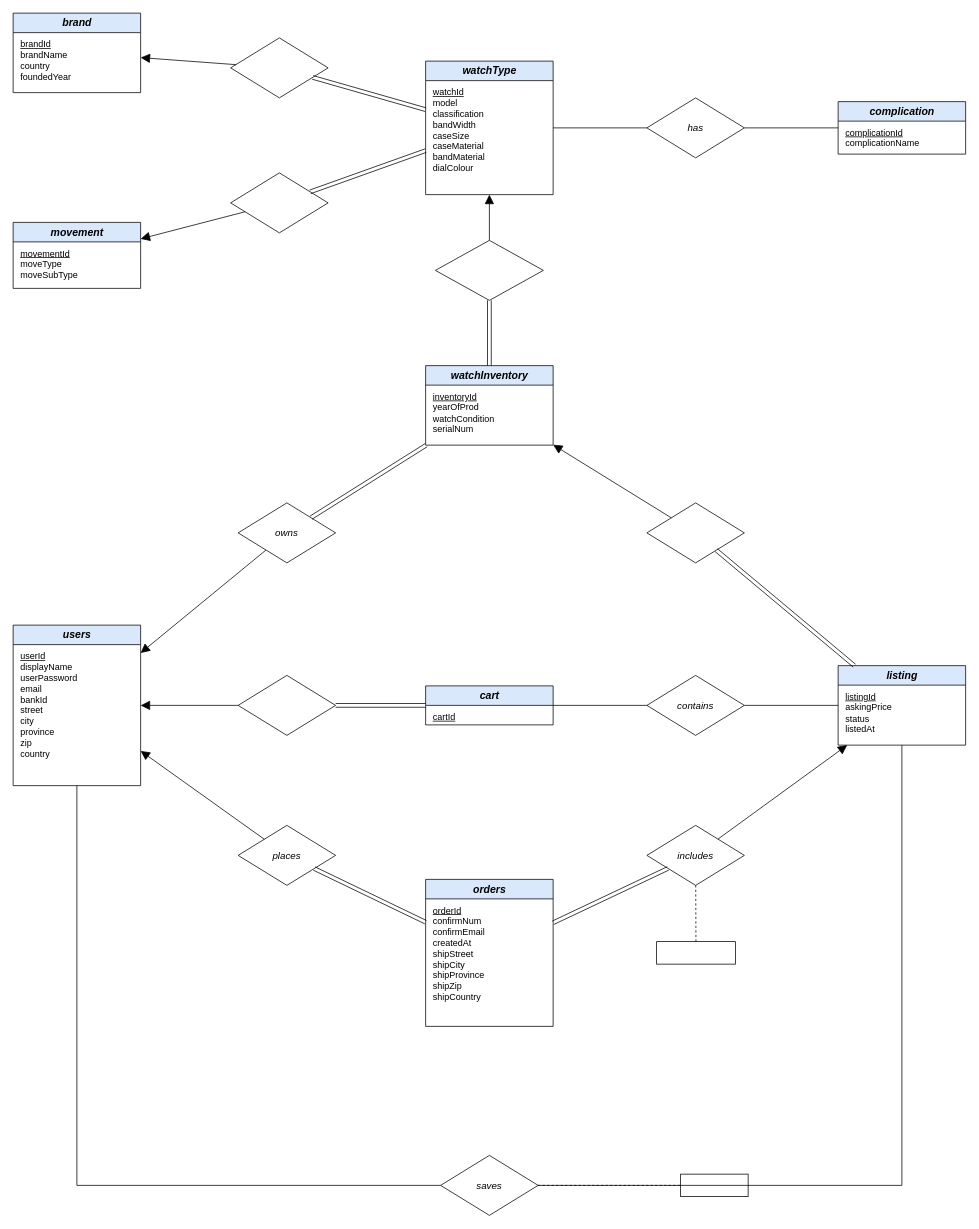
Some shapes in this 979 by 1229 pixel diagram are drawn without their labels. Here are the shapes that lost their labels. From the top down, the centre of each, then its label:
the point at 279,67: produces
the point at 279,202: powers
the point at 489,270: is model of
the point at 695,532: listed as
the point at 286,705: has cart
the point at 695,952: salePrice
the point at 714,1185: addedAt
